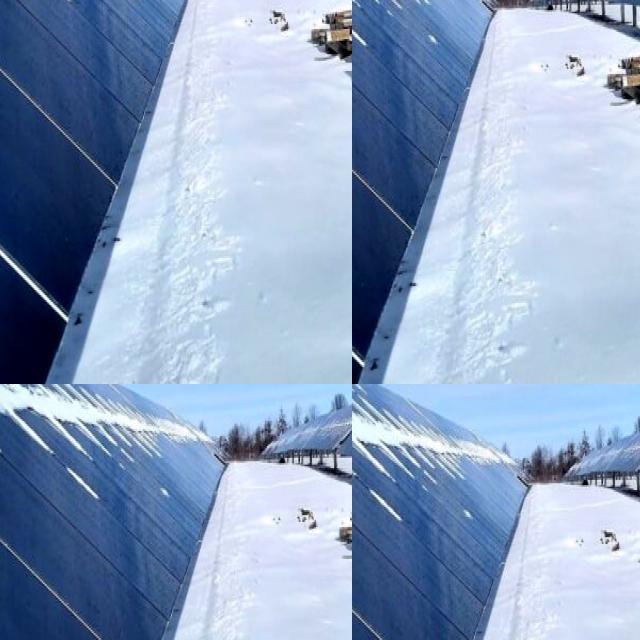dust: (497, 251, 640, 384), (352, 296, 468, 384)
panel: (167, 136, 352, 286), (0, 101, 146, 220), (0, 170, 105, 333), (37, 337, 286, 384), (352, 430, 436, 507), (368, 475, 412, 544), (440, 428, 508, 470), (352, 384, 418, 417), (456, 481, 486, 535), (352, 391, 369, 480), (352, 384, 373, 454), (352, 384, 385, 418)
